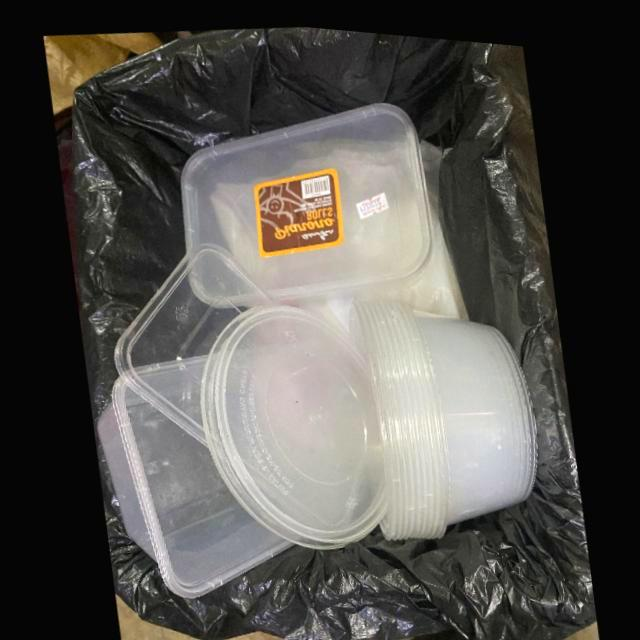plastic_container: (180, 96, 433, 305), (96, 353, 292, 597), (197, 302, 388, 544), (346, 293, 536, 534), (113, 239, 275, 443)
